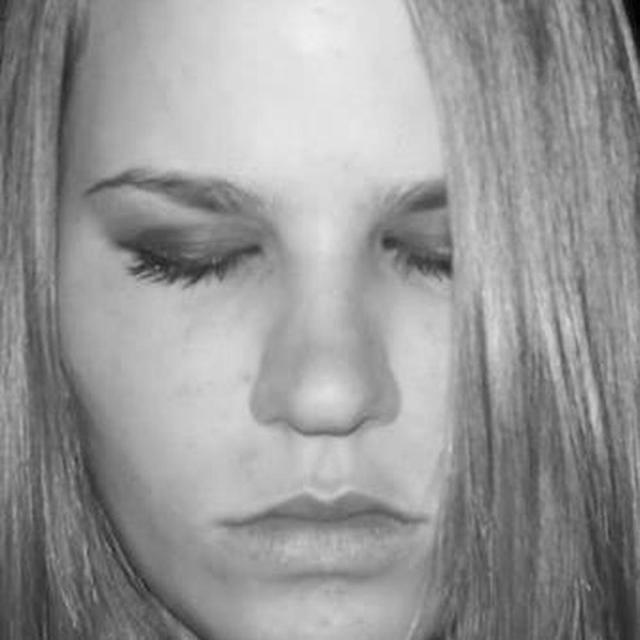real: (55, 15, 544, 640), (87, 170, 491, 328)
